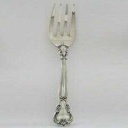fork: (43, 3, 99, 128)
